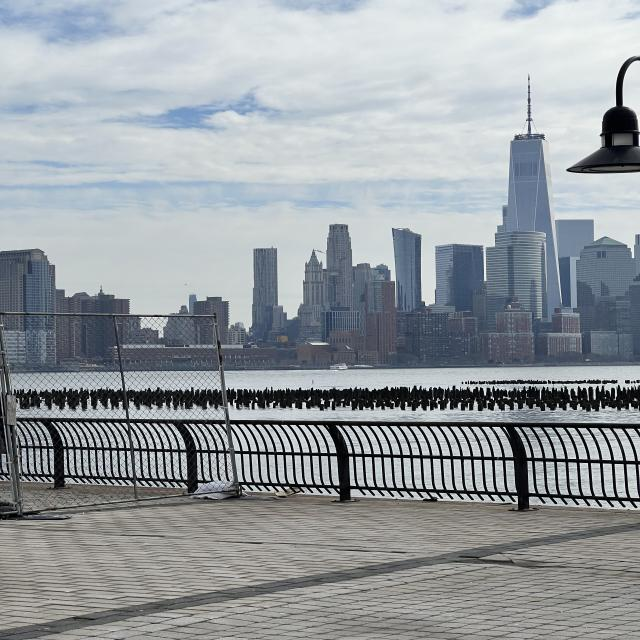WTC: (505, 74, 557, 229)
